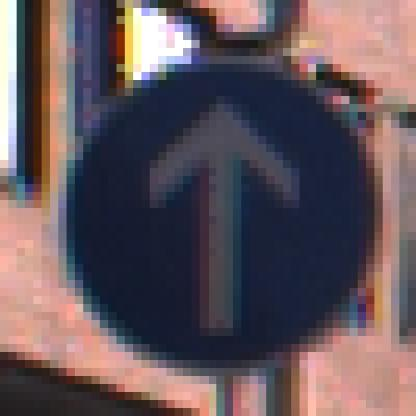AheadOnly: (43, 49, 367, 369)
